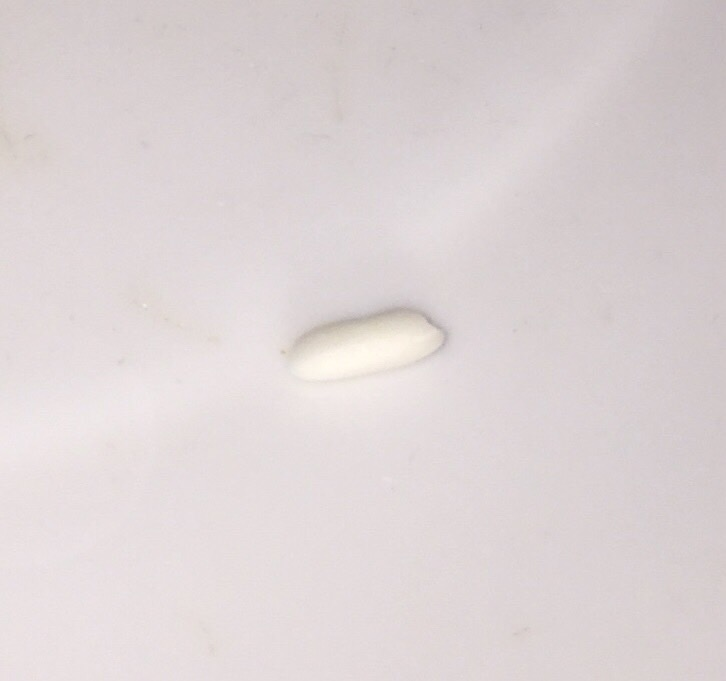Gao Nep Sap: (271, 279, 455, 400)
